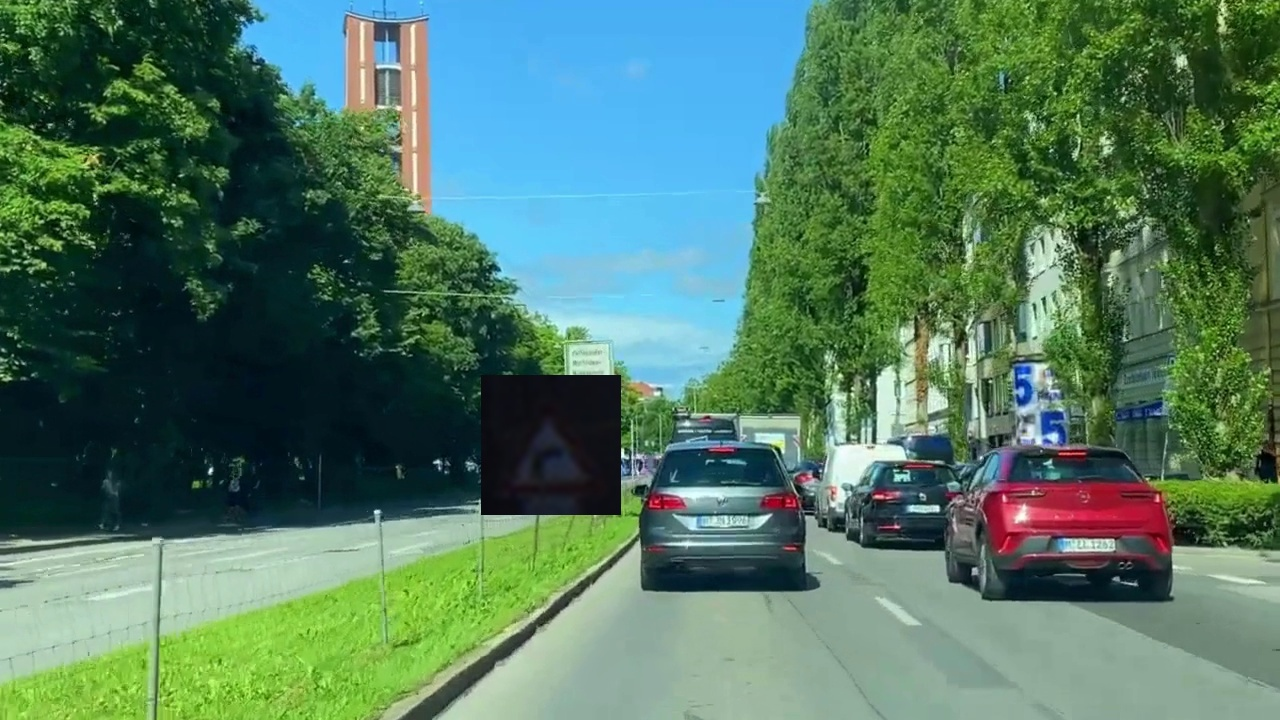Curve right: (481, 375, 621, 515)
